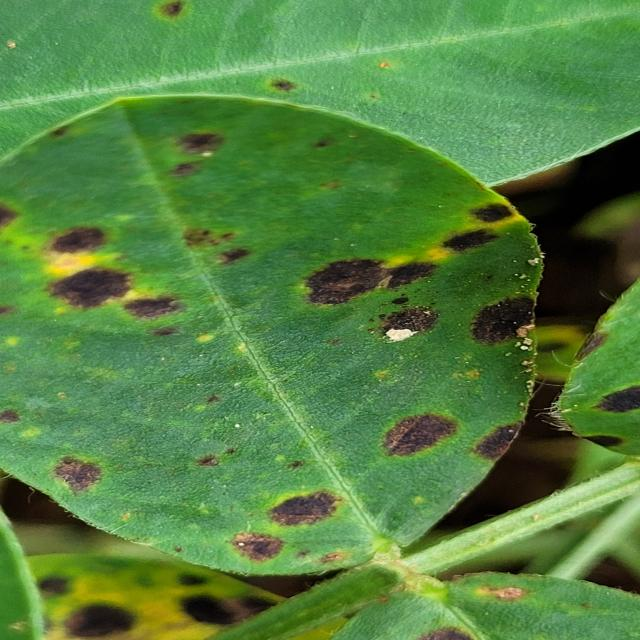Ground nut_tikka leaf spot: (12, 95, 528, 578)
